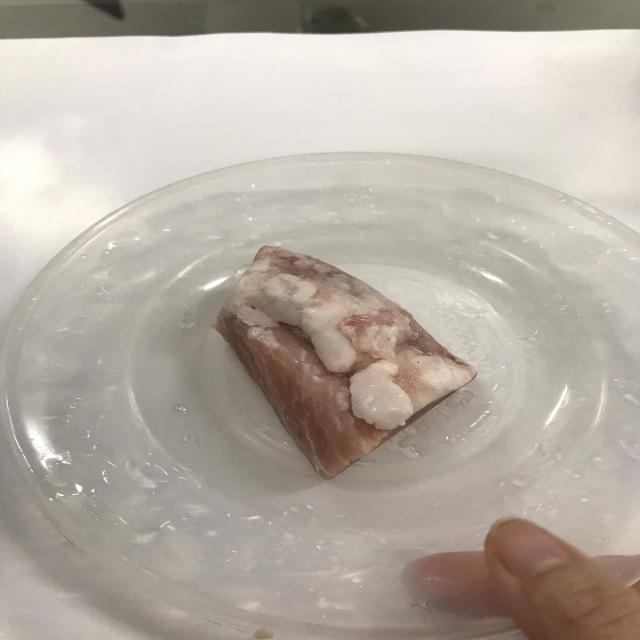chicken: (198, 236, 487, 477)
